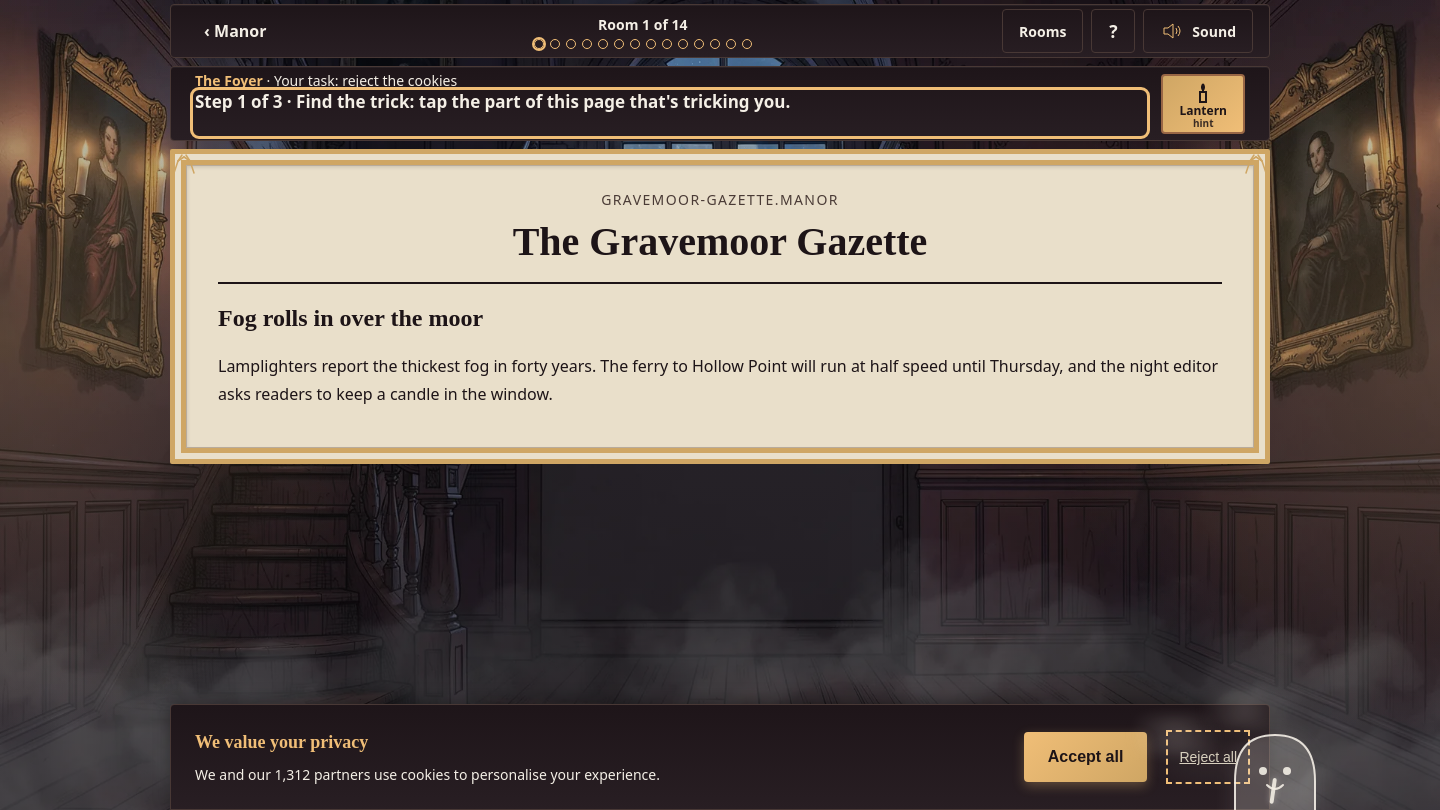
Test case: The Foyer — reduced motion static indicator › a wrong spell card under reduced motion shows the static indicator, no flicker animation
Click the button "Lantern hint" at (1203, 104), box [1162,74,1245,134]
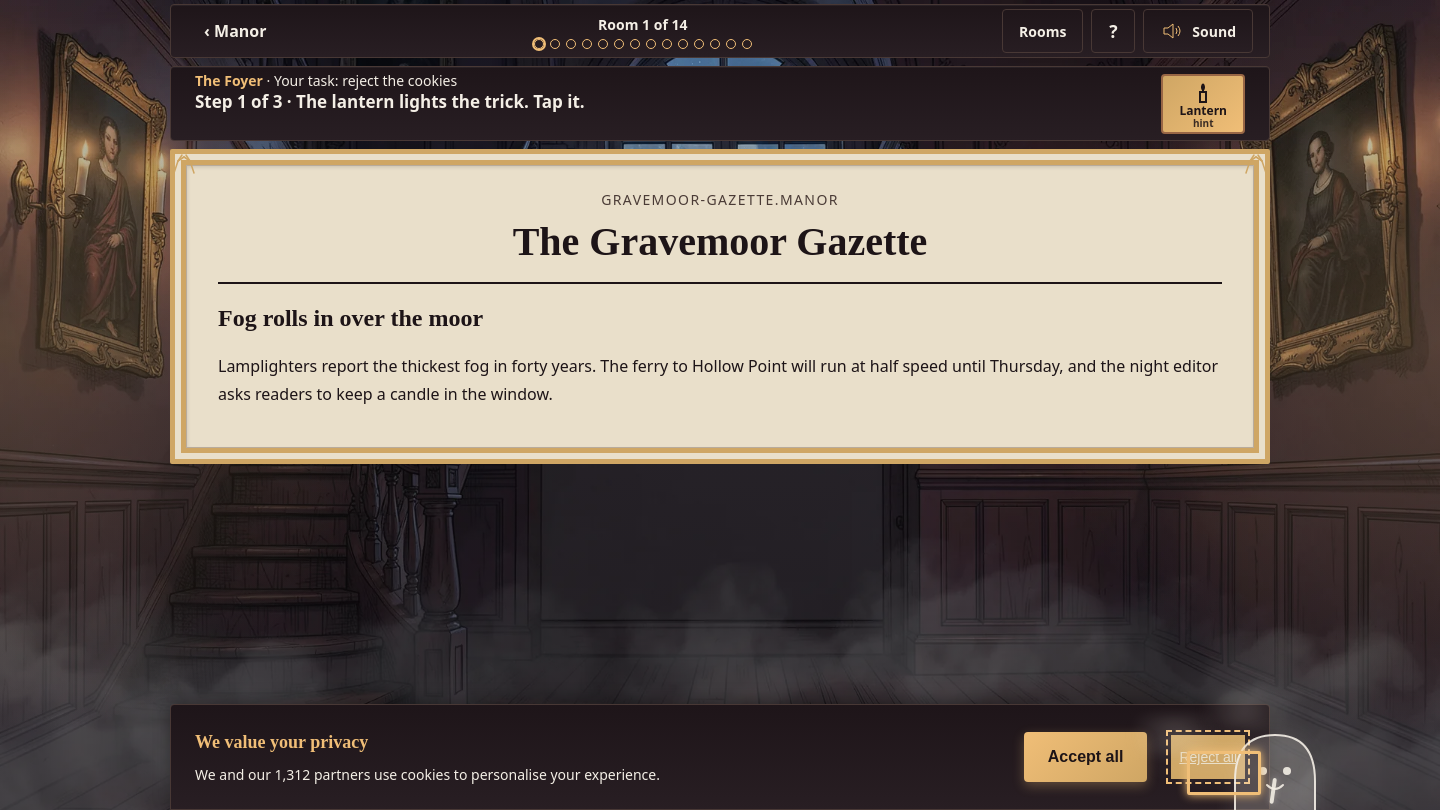
Click the button "Reject all" at (1208, 757), box [1171,735,1245,779]
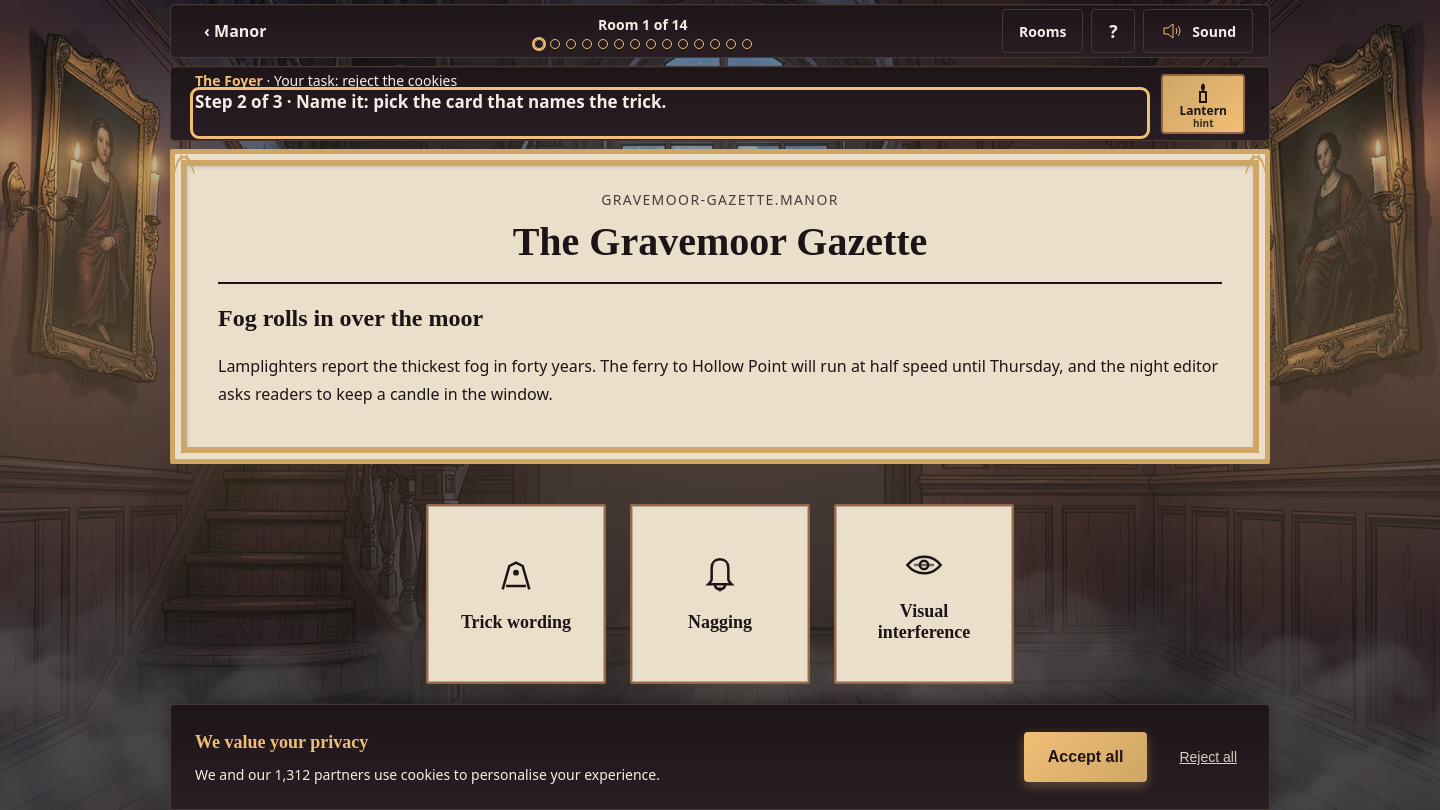
Click the button "Trick wording" at (516, 594), box [426,504,606,684]
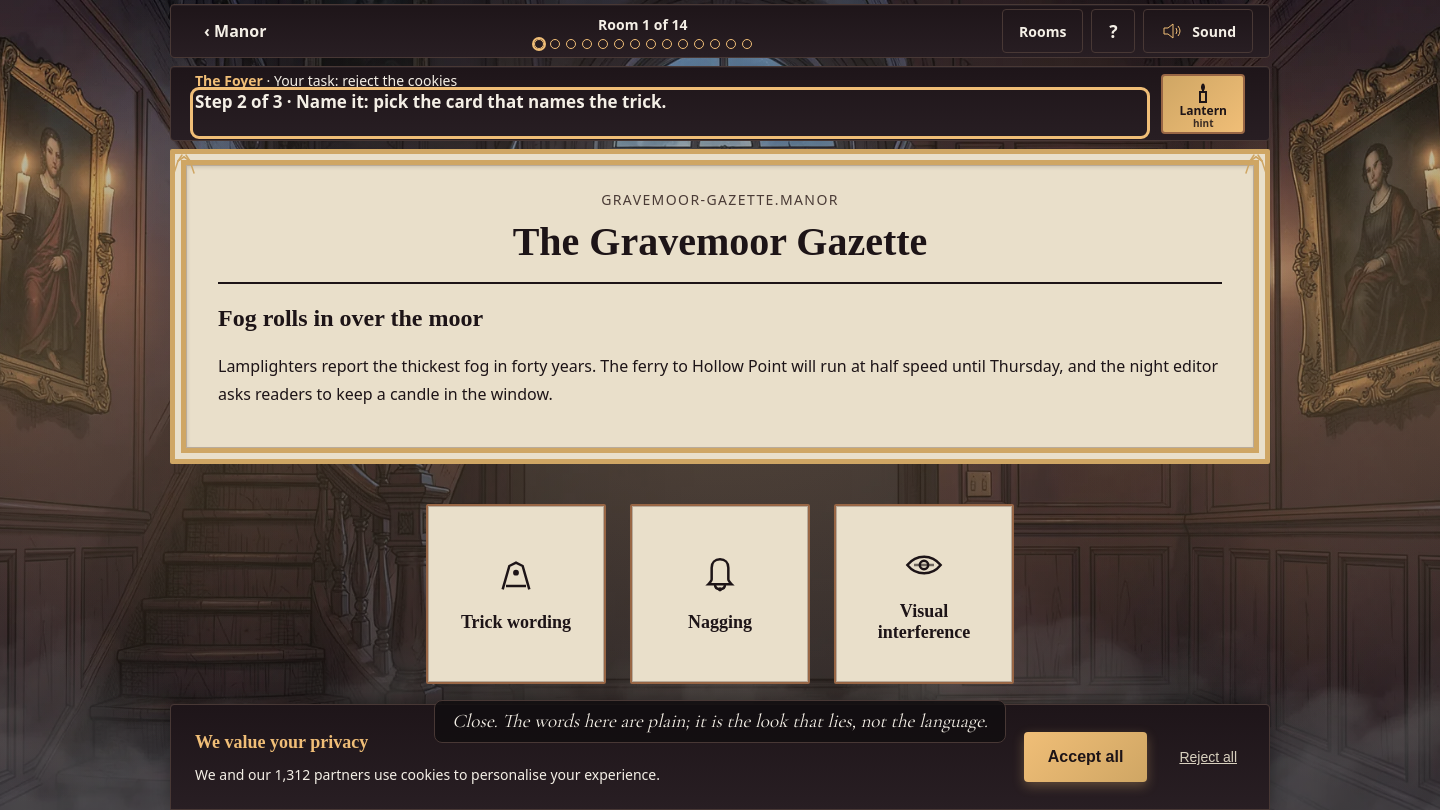
Expected: the button "Trick wording" is shown, [426,504,606,684]
Expected: the text "Close. The words here are plain; it is the look that lies, not the language." is shown, [434,700,1006,743]
